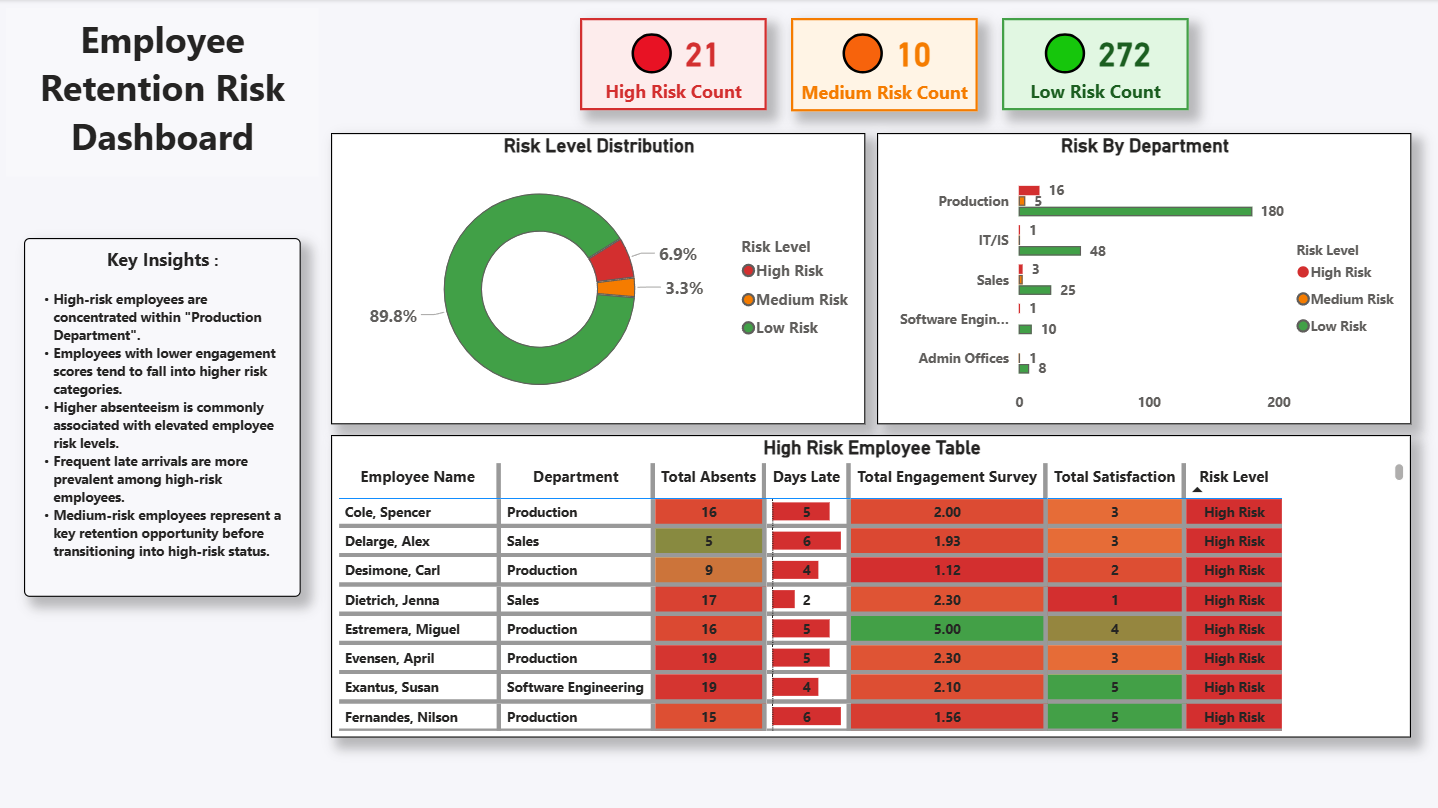

This screenshot's page, from the dashboard's own definition file:
{"tool":"powerbi","page":{"name":"High Risk Analysis","canvas":[1280,720],"ordinal":2},"visuals":[{"type":"card","fields":{"Values":["project high_risk_employees.High Risk Count"]},"box":[515.6,17,166.2,81.8],"z":0},{"type":"card","fields":{"Values":["project high_risk_employees.Medium Risk Count"]},"box":[703.1,17,166.2,82.7],"z":1000},{"type":"donutChart","title":"Risk Level Distribution","fields":{"Y":["CountNonNull(project high_risk_employees.Employee_name)"],"Category":["project high_risk_employees.risk_level"]},"box":[294.2,119.1,474.7,258.7],"z":2000},{"type":"clusteredBarChart","title":"Risk By Department","fields":{"Category":["project high_risk_employees.Department"],"Y":["CountNonNull(project high_risk_employees.Employee_name)"],"Series":["project high_risk_employees.risk_level"]},"box":[779.6,119.1,474.7,258.7],"z":3000},{"type":"tableEx","title":"High Risk Employee Table","fields":{"Values":["project high_risk_employees.Employee_name","project high_risk_employees.Department","Sum(project high_risk_employees.Absences)","Sum(project high_risk_employees.Dayslatelast30)","Sum(project high_risk_employees.EngagementSurvey)","Sum(project high_risk_employees.EmpSatisfaction)","project high_risk_employees.risk_level"]},"box":[294.2,387.6,960,269.3],"z":4000},{"type":"card","fields":{"Values":["project high_risk_employees.Low Risk Count"]},"box":[890.7,17,166.2,81.8],"z":5000},{"type":"textbox","box":[5.3,8,278.2,150.2],"z":6000},{"type":"textbox","box":[21.1,212.4,246.3,318.6],"z":7000}]}

Visuals, with their boxes in screenshot pixels (x1, y1, x2, y2), scaled from the page's 1280x720 canvas onto the 1438x808 screenshot:
card - project high_risk_employees.High Risk Count: 579,19,766,111
card - project high_risk_employees.Medium Risk Count: 790,19,977,112
"Risk Level Distribution" donutChart: 331,134,864,424
"Risk By Department" clusteredBarChart: 876,134,1409,424
"High Risk Employee Table" tableEx: 331,435,1409,737
card - project high_risk_employees.Low Risk Count: 1001,19,1187,111
textbox: 6,9,318,178
textbox: 24,238,300,596
